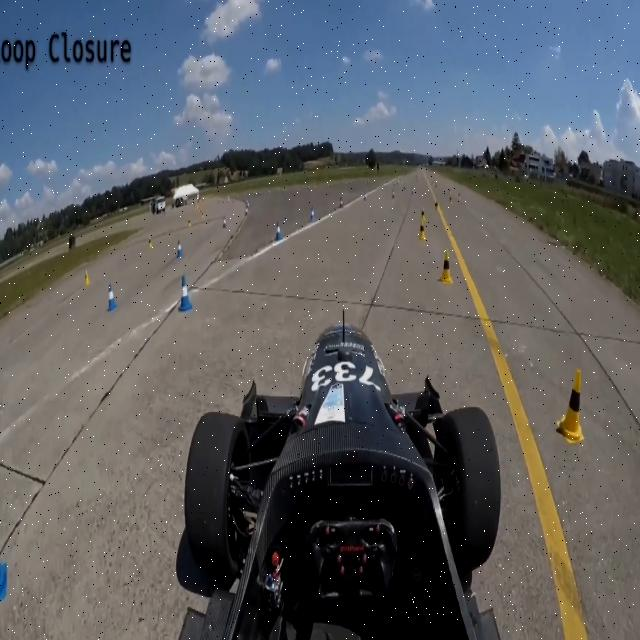blue_cone: (0, 512, 8, 612), (179, 276, 193, 312), (108, 284, 118, 310)
yellow_cone: (558, 369, 584, 444), (440, 248, 453, 284), (420, 219, 426, 241)
